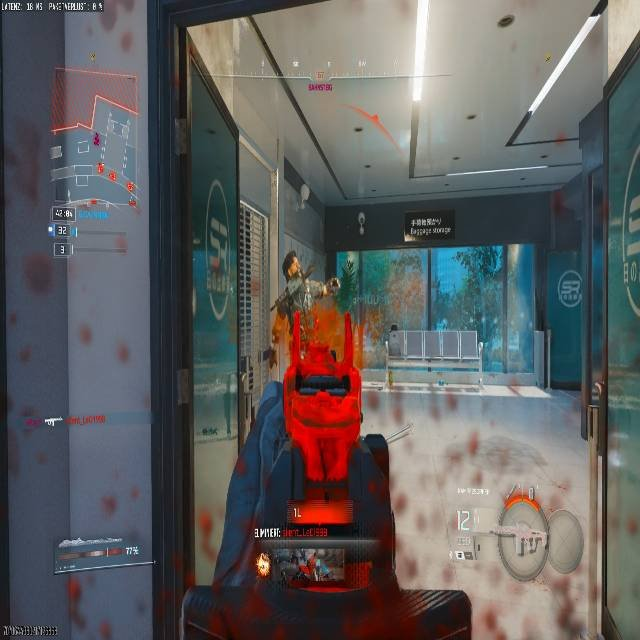player: (271, 252, 333, 371)
